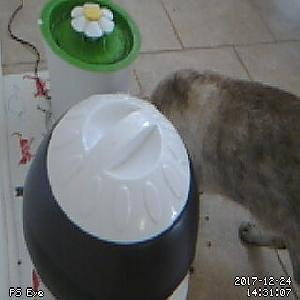cat: (137, 68, 300, 290)
fountain: (38, 1, 143, 74)
